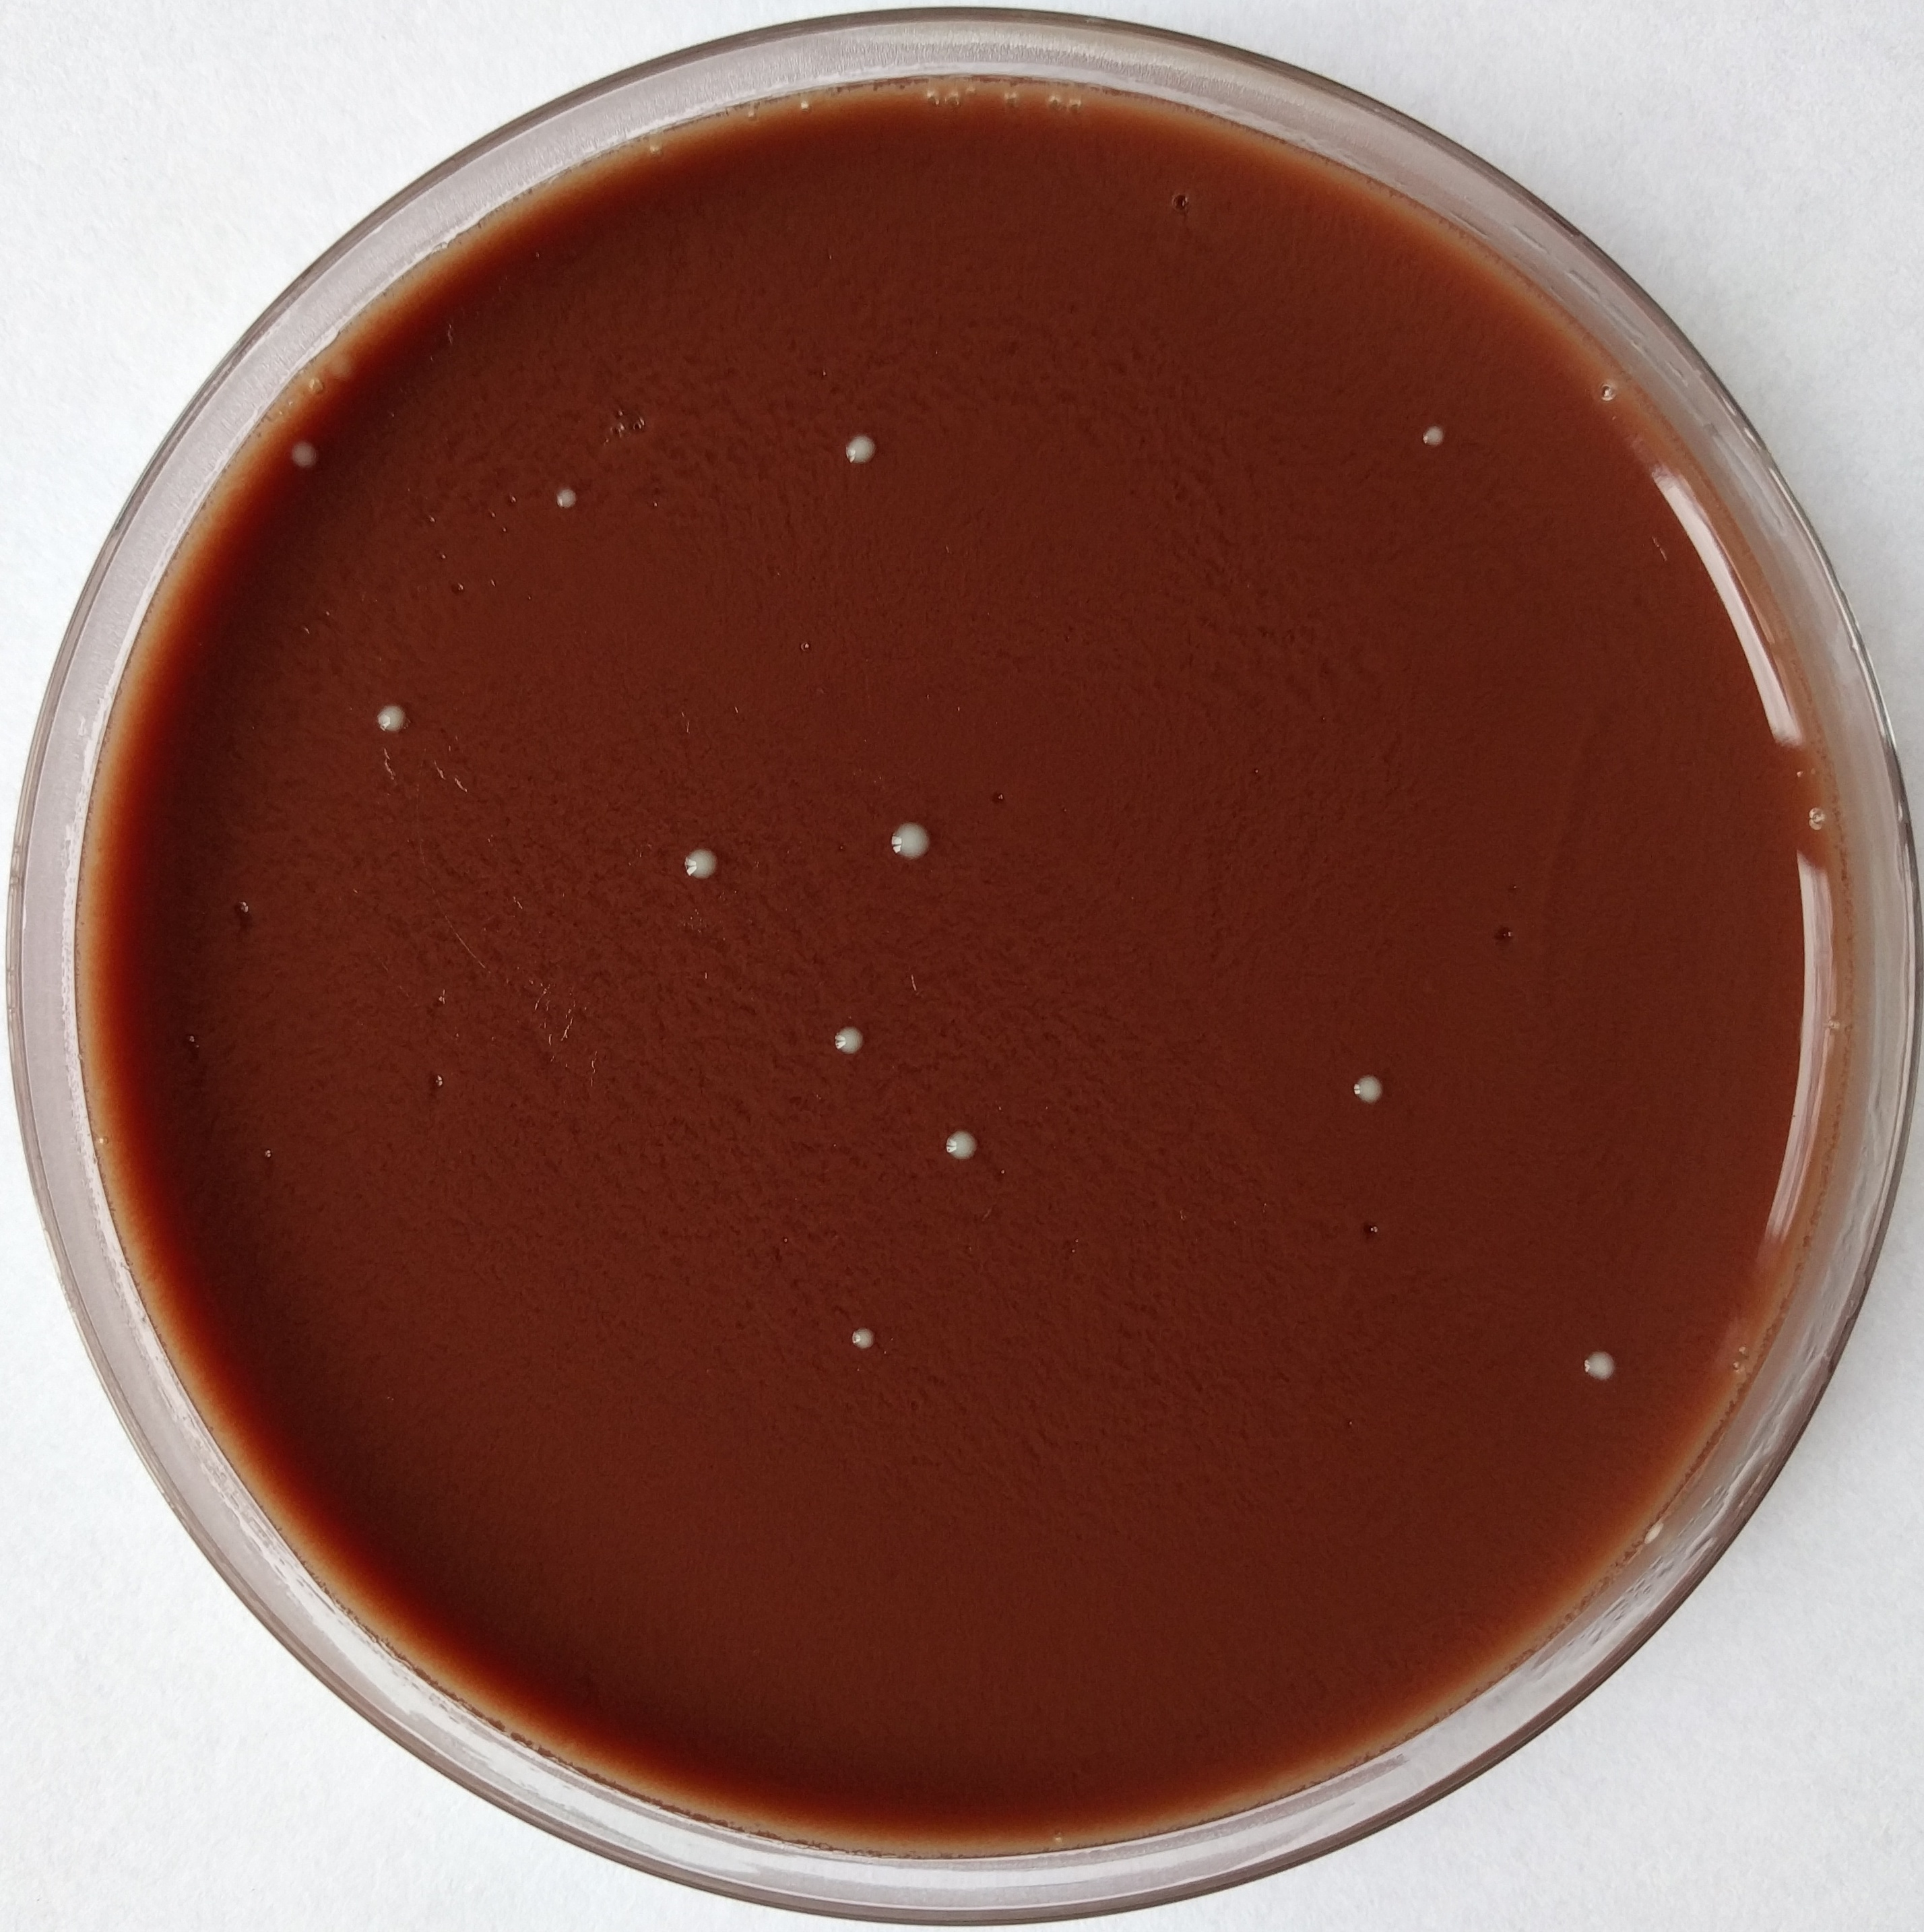sp12: (830, 1298, 904, 1386), (807, 1009, 884, 1083), (513, 463, 604, 525), (816, 412, 888, 481), (921, 1122, 1008, 1169), (1332, 1058, 1401, 1117), (876, 805, 941, 863), (1572, 1331, 1619, 1405), (280, 424, 328, 497), (356, 692, 428, 736), (1415, 403, 1466, 461), (659, 826, 717, 874)
